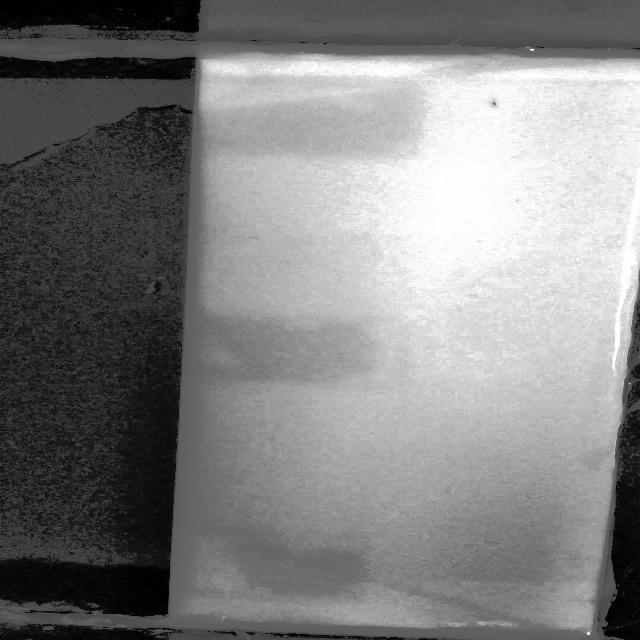shrimp: (480, 96, 507, 107)
